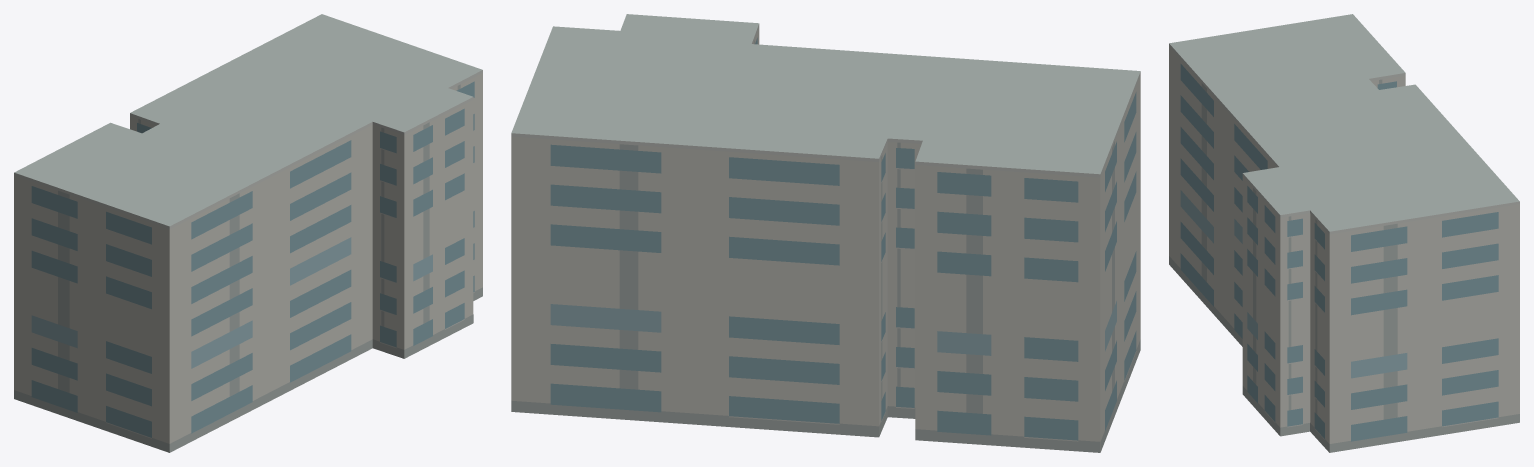
Rendered from survey-upis-32841808.glb.
The picture shows the model from 3 angles, left to right: view 1: azimuth 30°, elevation 25°; view 2: azimuth 150°, elevation 25°; view 3: azimuth 270°, elevation 25°; orthographic projection. The views are drawn at different scales.
Parts seen in each view (by area): view 1: survey-upis-32841808.tmp; view 2: survey-upis-32841808.tmp; view 3: survey-upis-32841808.tmp.
Boxes of the visible parts, bbox=[...] form: survey-upis-32841808.tmp: bbox=[14, 14, 482, 452]; survey-upis-32841808.tmp: bbox=[511, 14, 1140, 452]; survey-upis-32841808.tmp: bbox=[1169, 14, 1519, 452].
Size of the model in its own units: 41.28 by 19.55 by 28.11.
